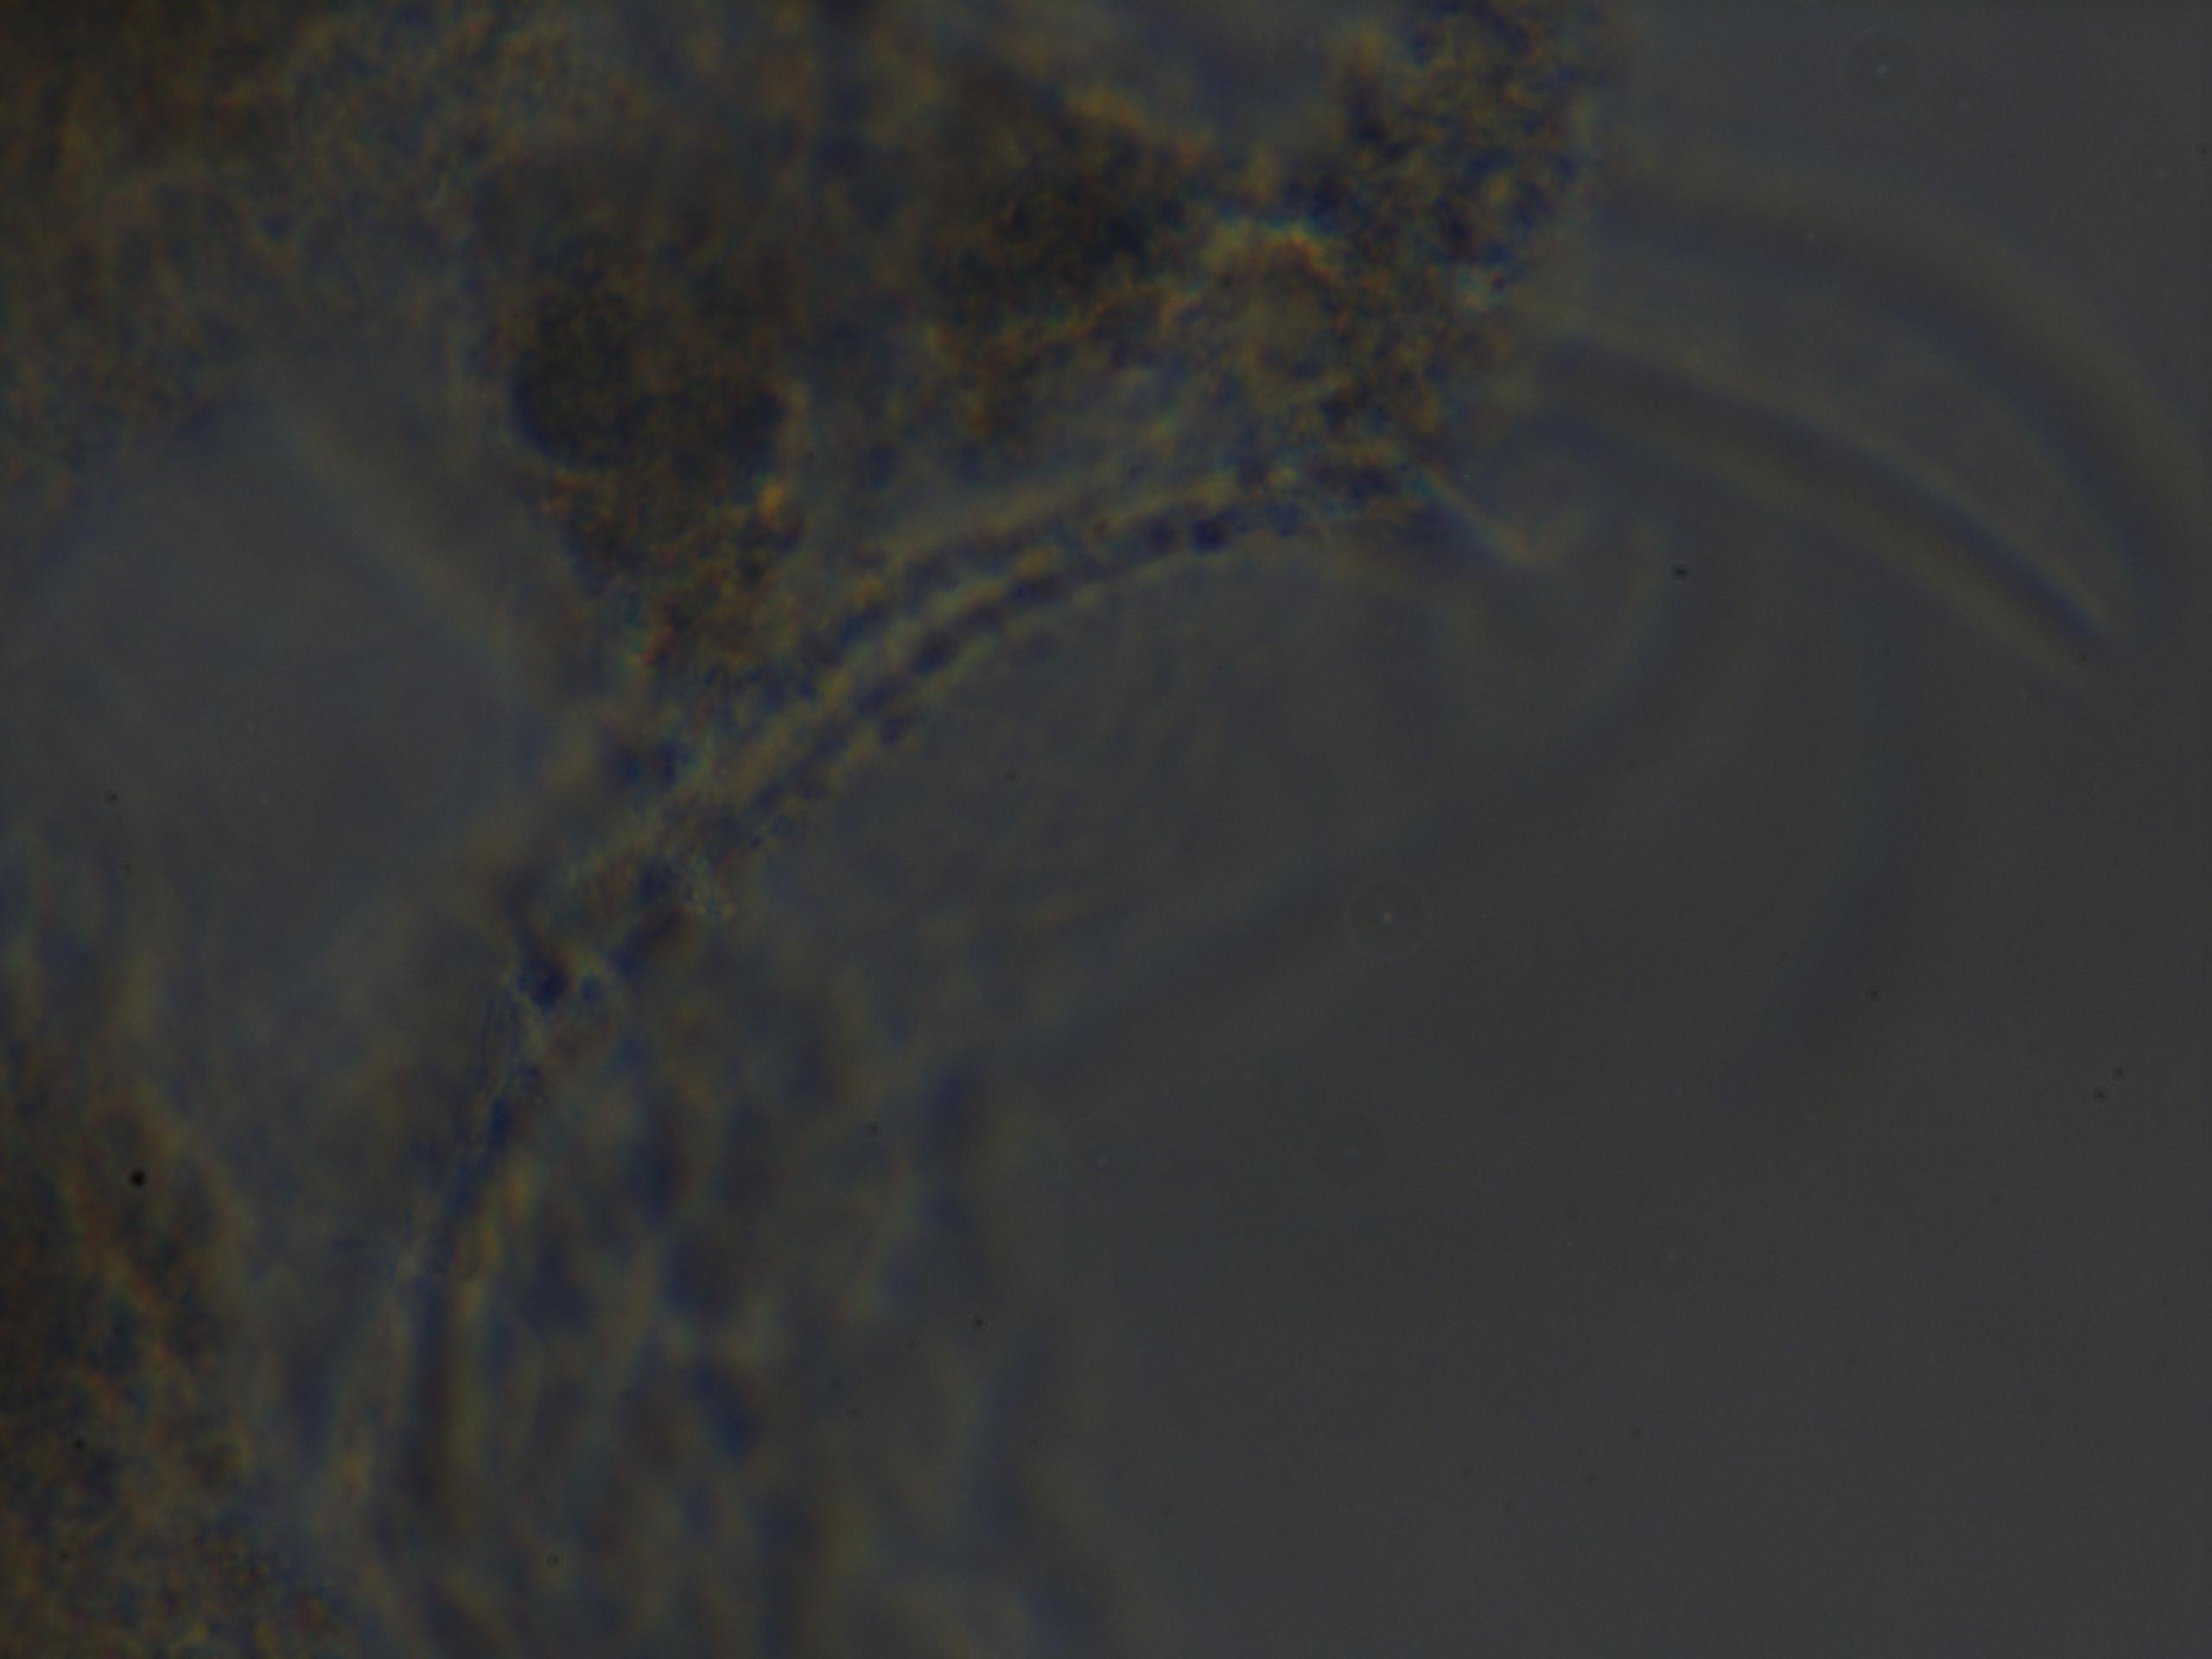filament: (347, 439, 1371, 1659), (1486, 113, 2212, 692)
